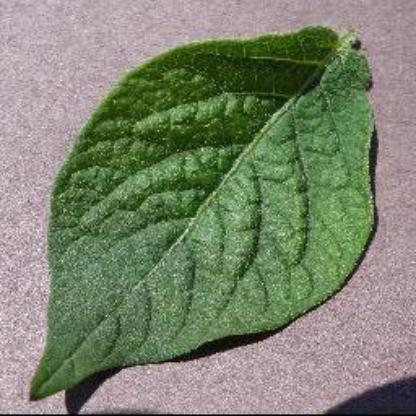Healthy-plant: (24, 23, 396, 403)
